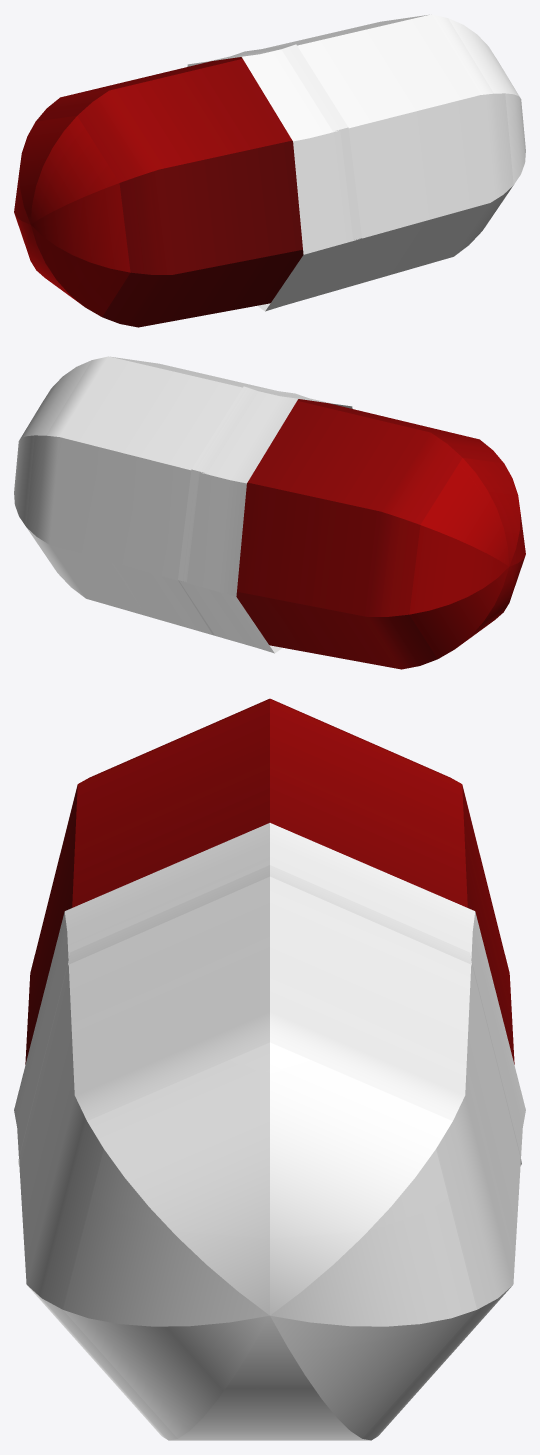
File: pildoracontextura3.fbx
3 views of the same model, one above another, from view 1: azimuth 30°, elevation 25°; view 2: azimuth 150°, elevation 25°; view 3: azimuth 270°, elevation 25° (orthographic). The views are drawn at different scales.
Parts seen in each view (by area): view 1: pSphere5; view 2: pSphere5; view 3: pSphere5.
Part boxes in pixels (x1,y1,x2,y2): pSphere5: (14, 14, 525, 327); pSphere5: (14, 356, 525, 669); pSphere5: (14, 698, 525, 1440).
Size of the model in its own units: 0.3226 by 0.1495 by 0.1534.
1 material, 1 textured.
